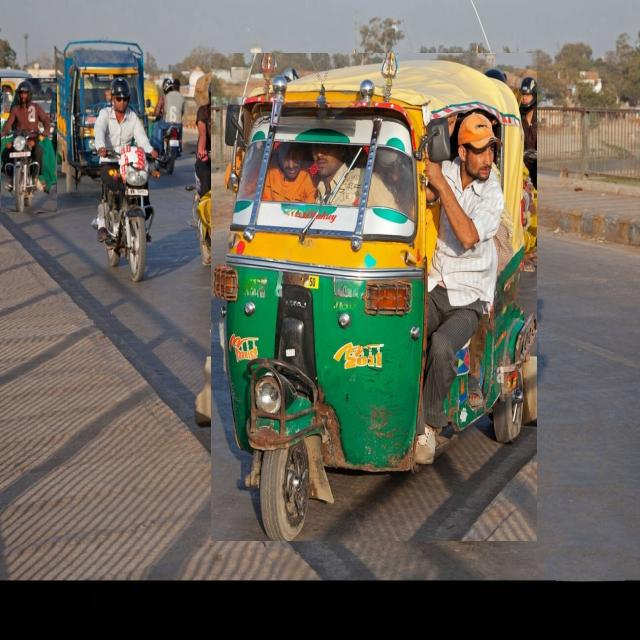autorickshaw: (211, 53, 536, 541)
motorcycle: (94, 76, 158, 280), (1, 79, 56, 212)
truck: (55, 41, 145, 191)
